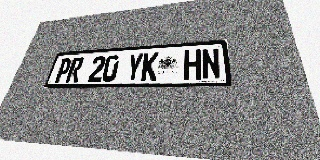0: (101, 55, 120, 82)
2: (87, 55, 107, 82)
H: (184, 49, 201, 80)
K: (140, 52, 159, 81)
N: (201, 48, 221, 79)
P: (53, 58, 73, 83)
R: (65, 57, 85, 82)
Y: (125, 53, 144, 81)
